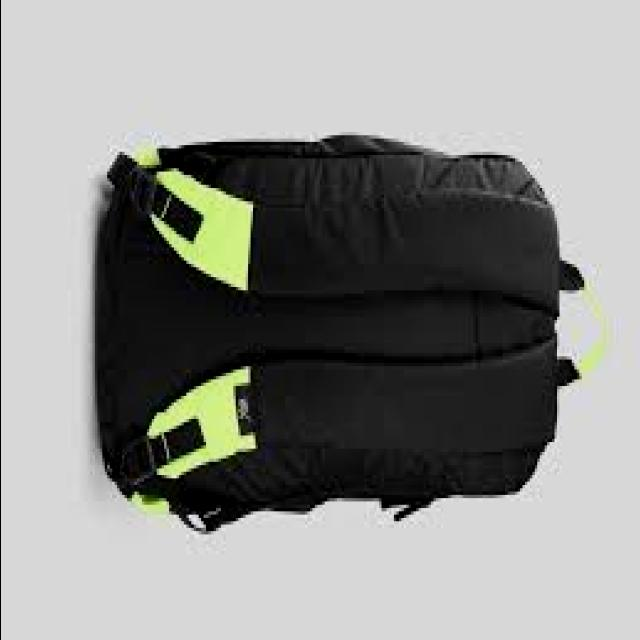backpack: (98, 133, 592, 532)
